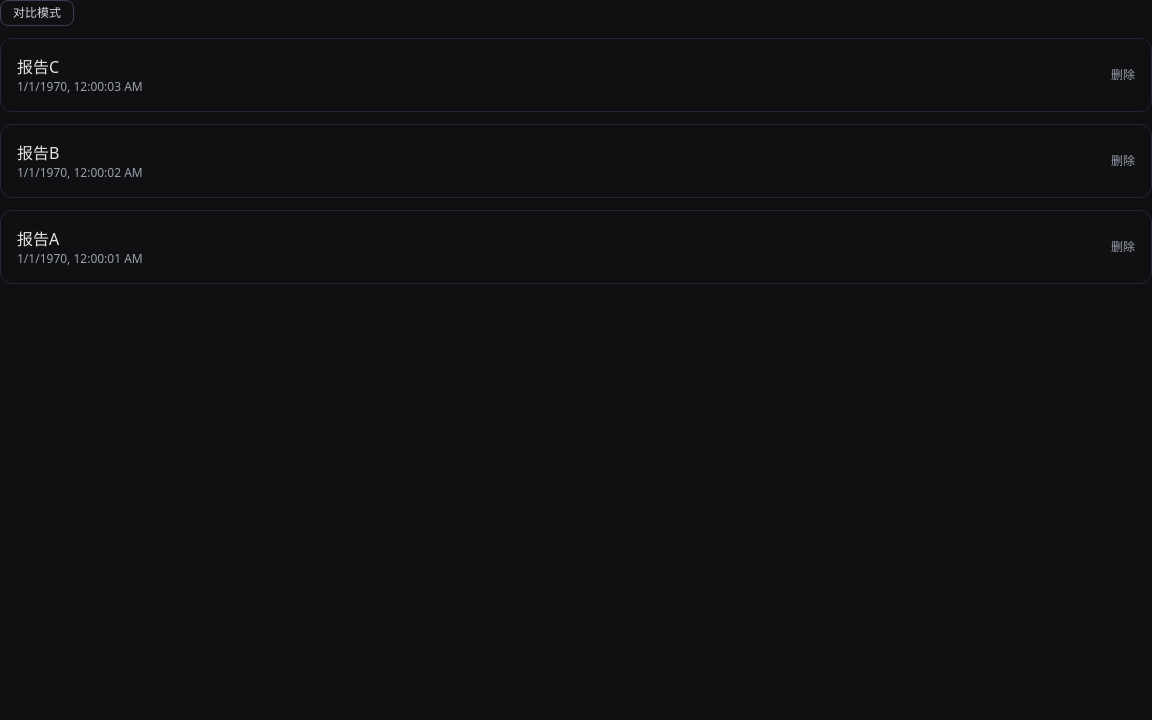
HistoryList：对比模式与 Diff（W21） › 勾选 1 份不出操作栏；勾满 2 份浮出操作栏
This screenshot has width=1152, height=720.
Click the button "对比模式" at (37, 13), box [0,0,74,26]
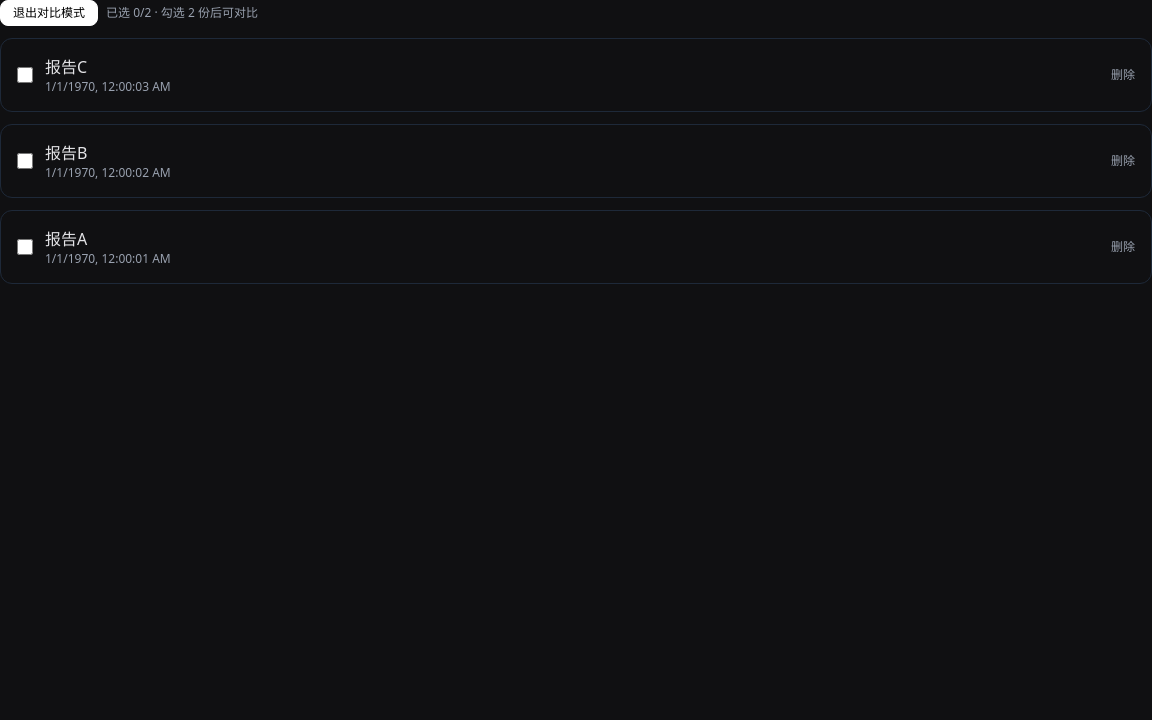
Click the checkbox named "选择 报告A" at (25, 247), box [17,239,33,255]
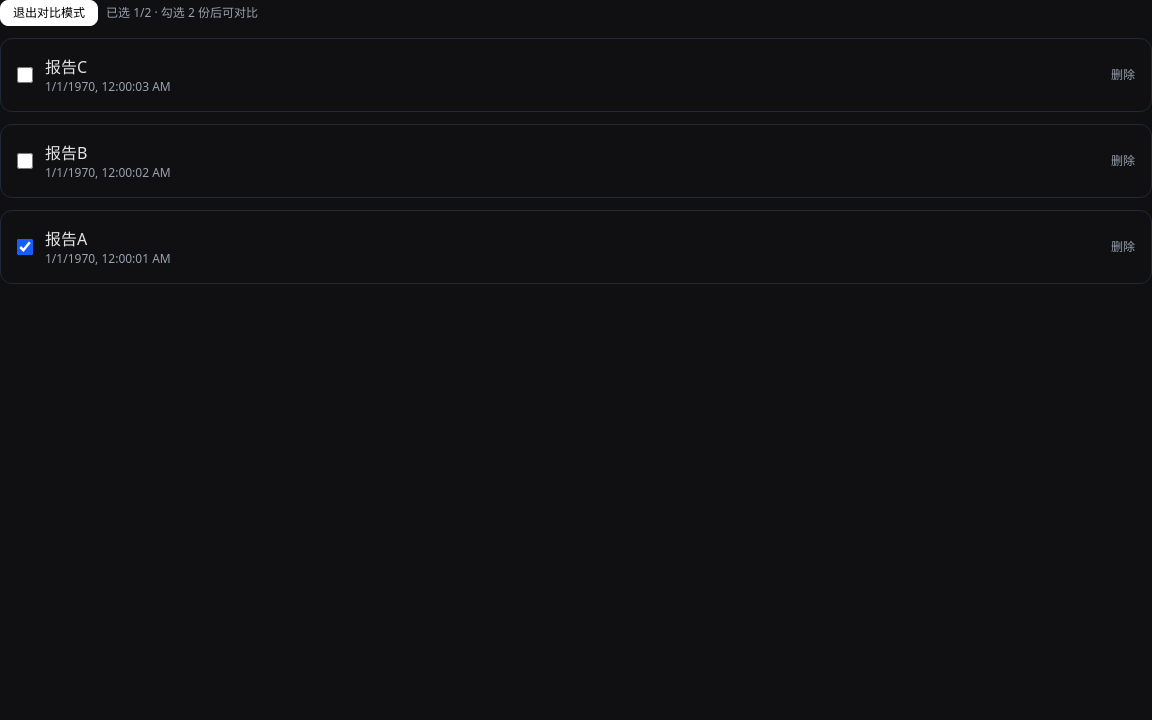
Result: the text "已选 1/2 · 勾选 2 份后可对比" is shown at [106,5,258,21]
Click the checkbox named "选择 报告C" at (25, 75), box [17,67,33,83]
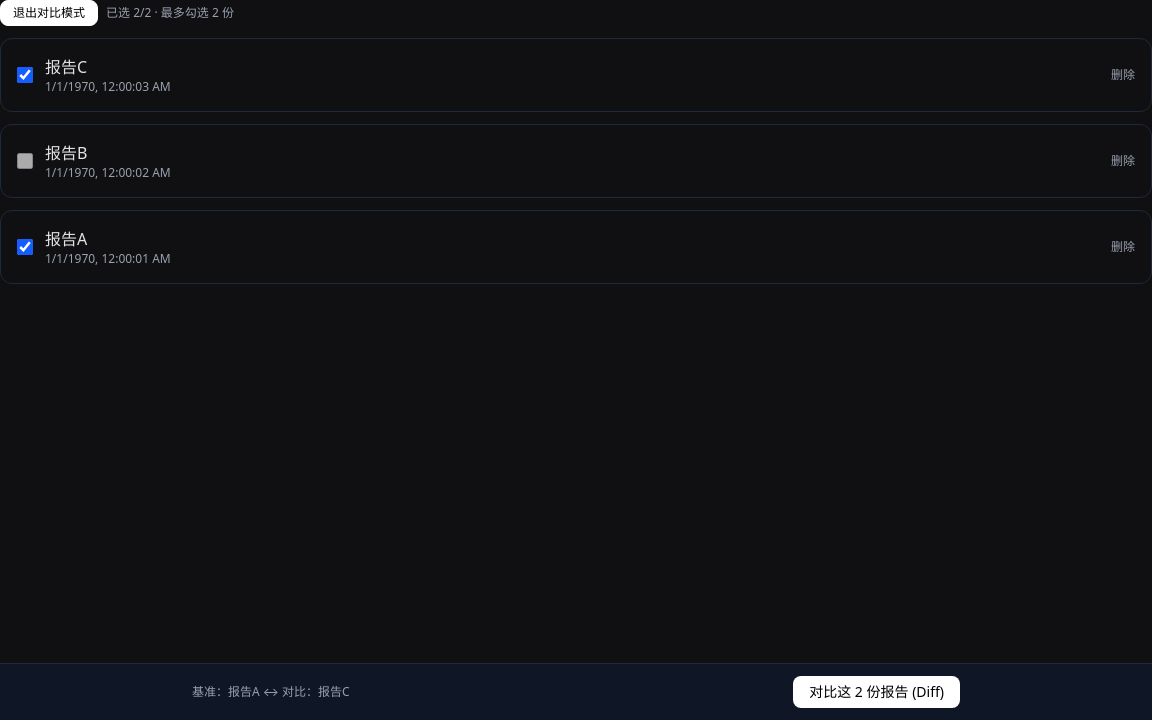
Result: the element showing "基准：报告A ↔ 对比：报告C 对比这 2 份报告 (Diff)" is shown at [0,663,1151,719]
